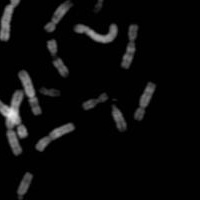chromosome: (5, 90, 24, 155), (36, 123, 74, 152), (0, 97, 26, 138), (18, 70, 40, 115), (44, 0, 71, 33), (0, 0, 20, 42), (75, 23, 117, 42), (134, 82, 155, 119), (48, 39, 68, 77), (121, 24, 136, 69), (17, 171, 32, 200), (111, 104, 126, 131), (83, 93, 108, 109), (40, 88, 60, 98), (93, 0, 102, 12)
